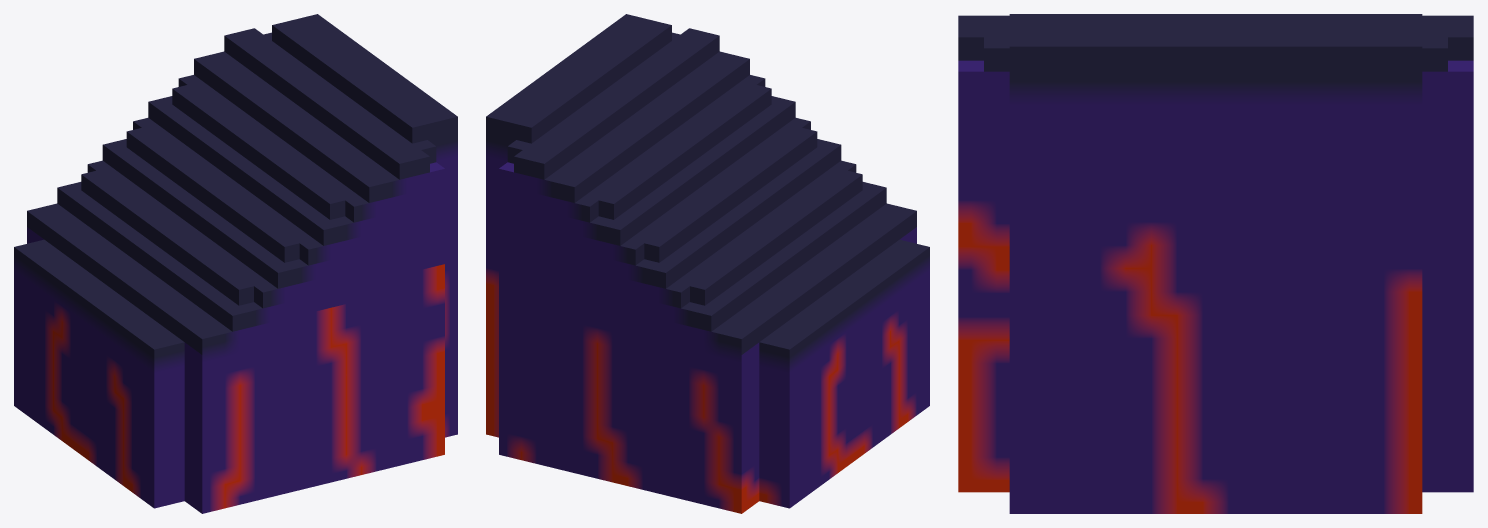
File: Stair.fbx
3 views of the same model, side by side, from view 1: azimuth 30°, elevation 25°; view 2: azimuth 150°, elevation 25°; view 3: azimuth 270°, elevation 25° (orthographic). The views are drawn at different scales.
Visible parts, largest first — view 1: Stair; view 2: Stair; view 3: Stair.
Part boxes in pixels (x1,y1,x2,y2): Stair: (14, 14, 457, 513); Stair: (486, 14, 929, 513); Stair: (958, 14, 1473, 513).
Size of the model in its own units: 20 by 20 by 20.
1 material, 1 textured.
